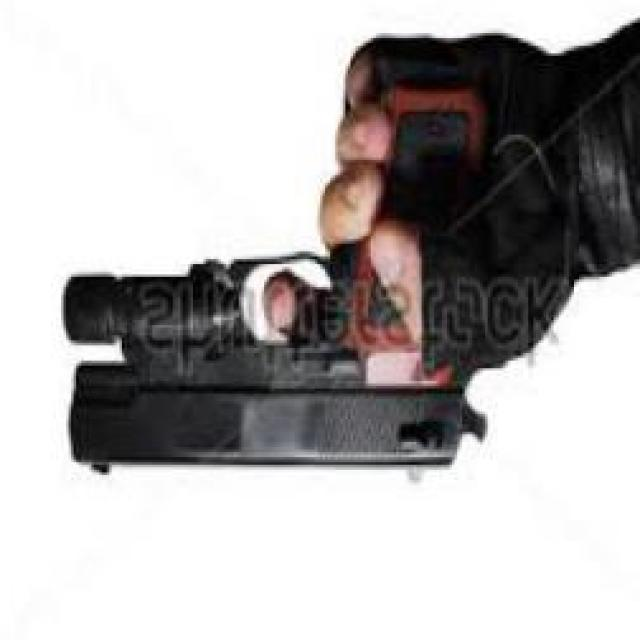pistol: (58, 27, 510, 503)
